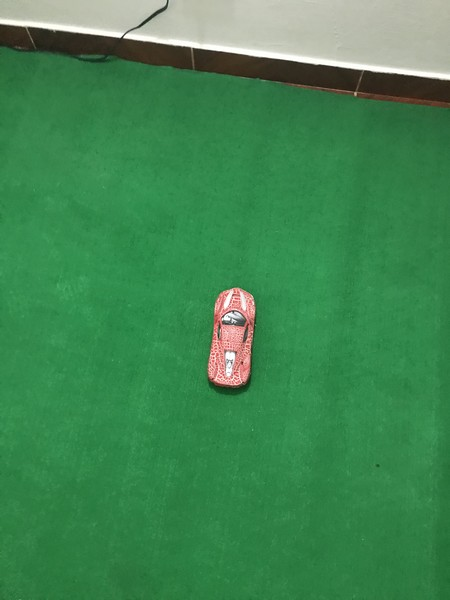RC: (206, 285, 257, 391)
